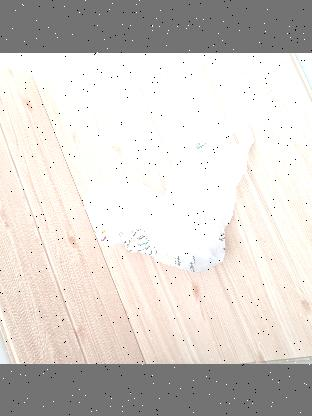Others: (90, 123, 246, 269)
